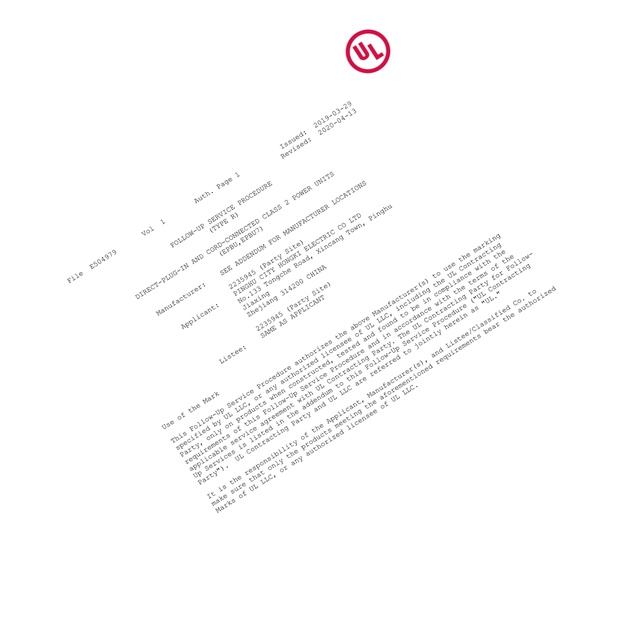ul: (343, 28, 393, 75)
